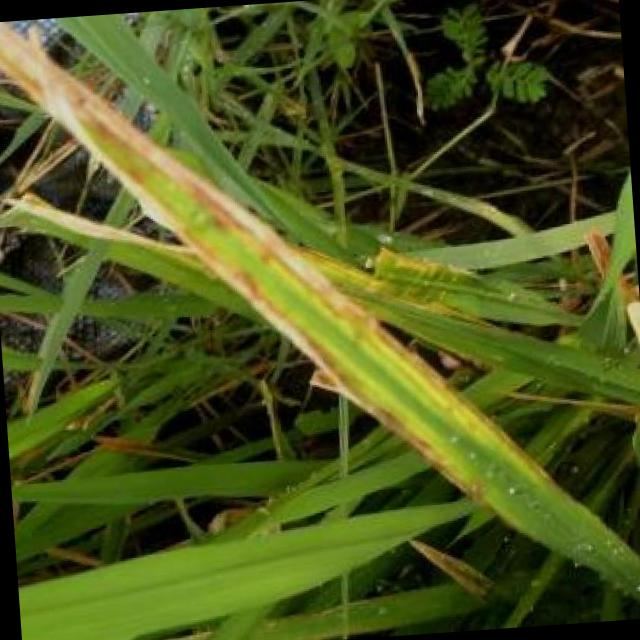Rice_Bacterial_Blight: (250, 292, 391, 416)
